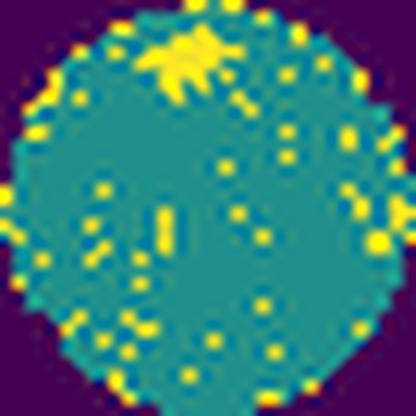Loc: (136, 22, 242, 102)
